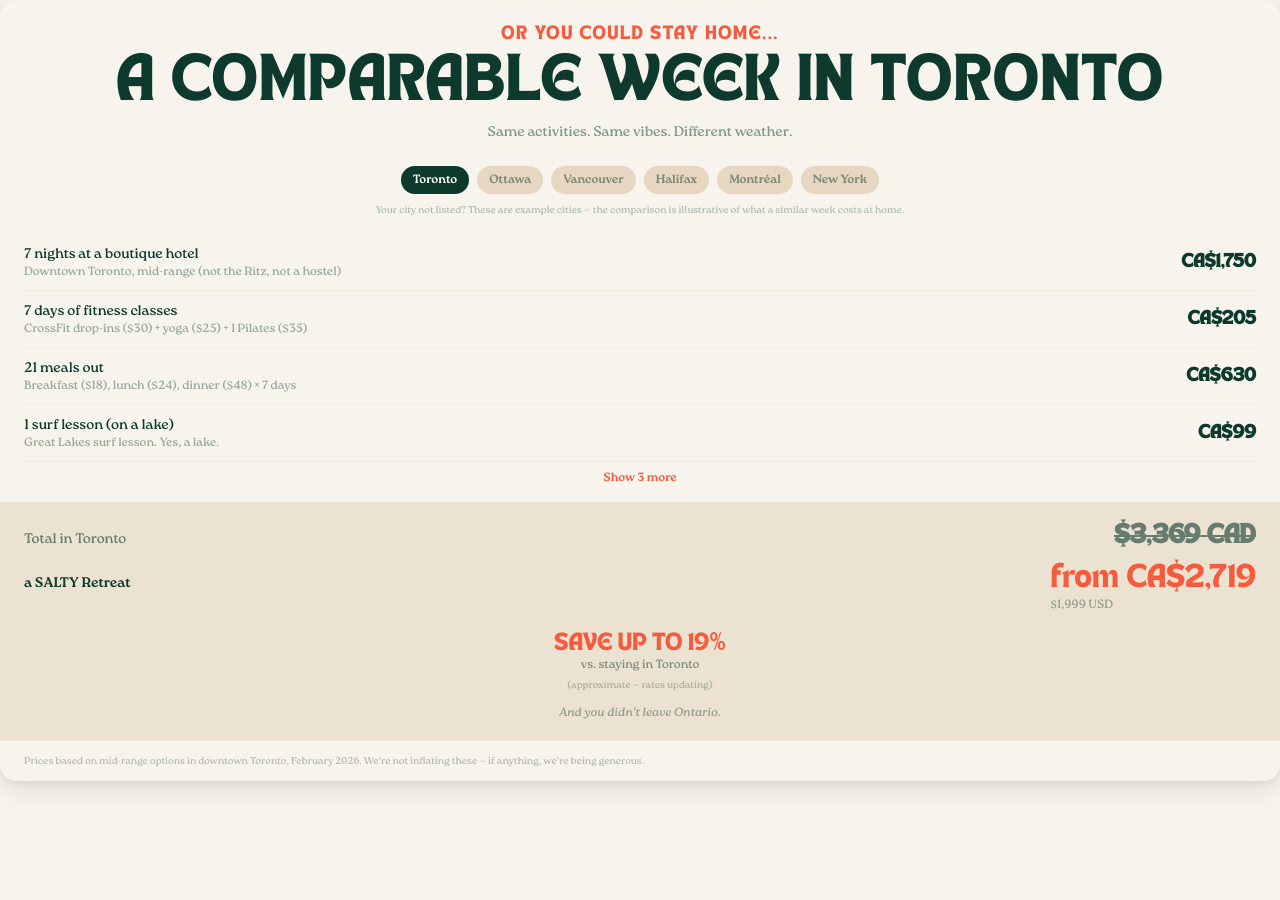
CostOfStayingHome › shows "Total in [cityName]" label
Expected: the text "Total in Toronto" is shown, left=24, top=529, right=126, bottom=549
Click the button "New York" at (840,180), box left=801, top=166, right=879, bottom=194
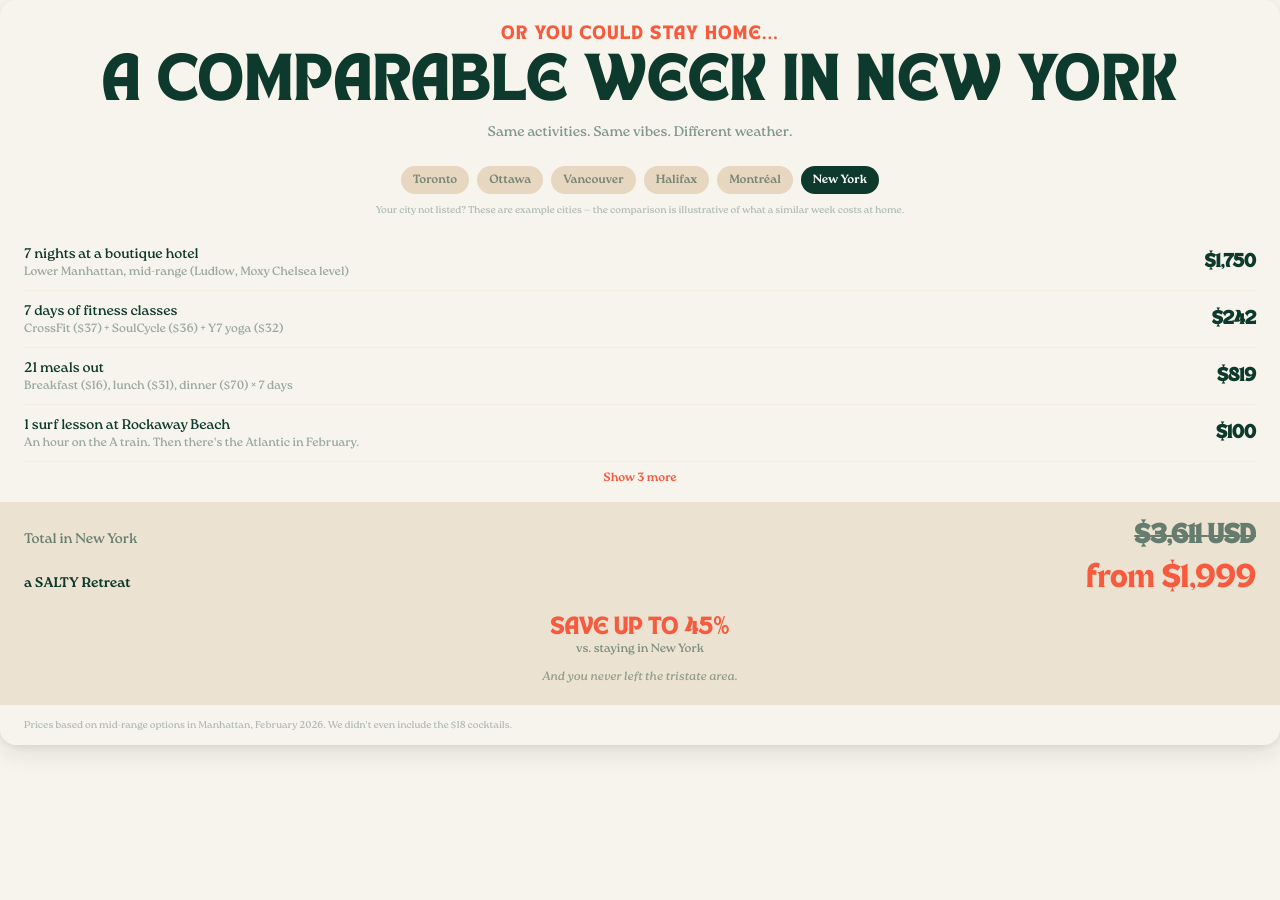
Now the text "Total in New York" is shown, box left=24, top=529, right=138, bottom=549
